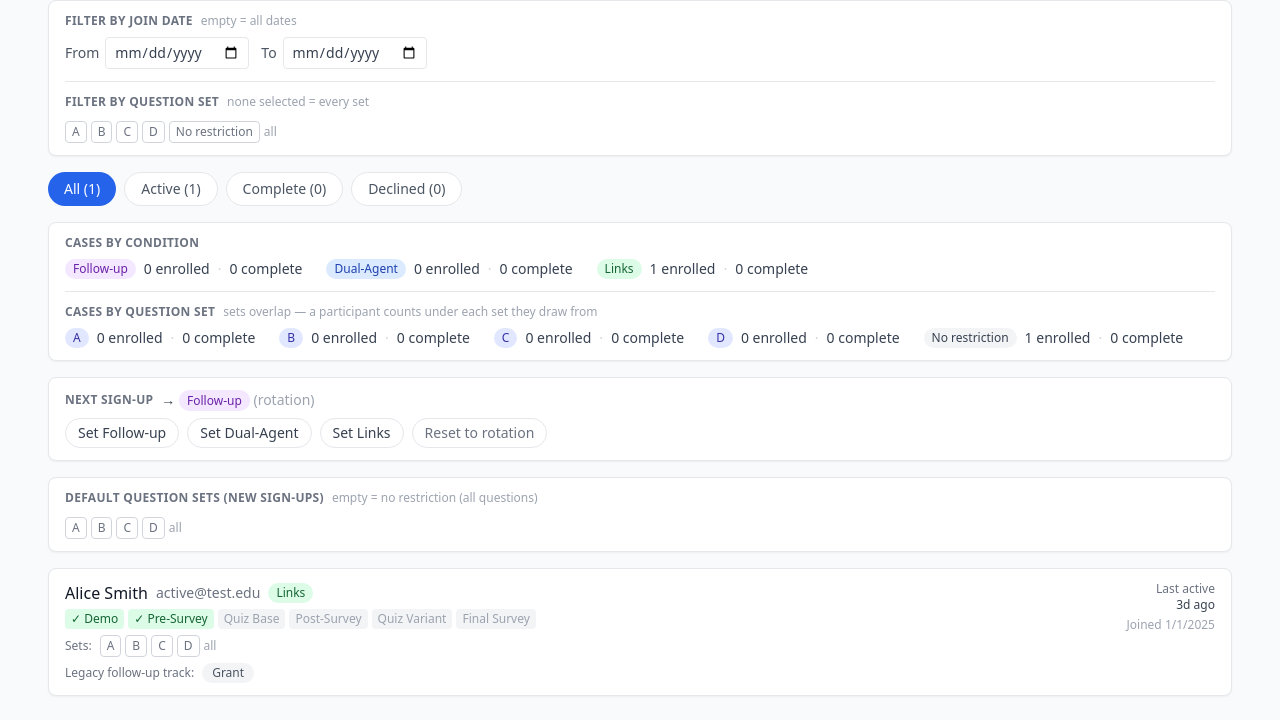
Scenario: ParticipantsPanelPage › next sign-up assignment › pins the next case when a condition button is clicked
(page scrolled)
expect the text "(rotation)" is shown: met, box [253,390,314,409]
Click the button "Set Links": [362, 433] box [320,418,404,448]
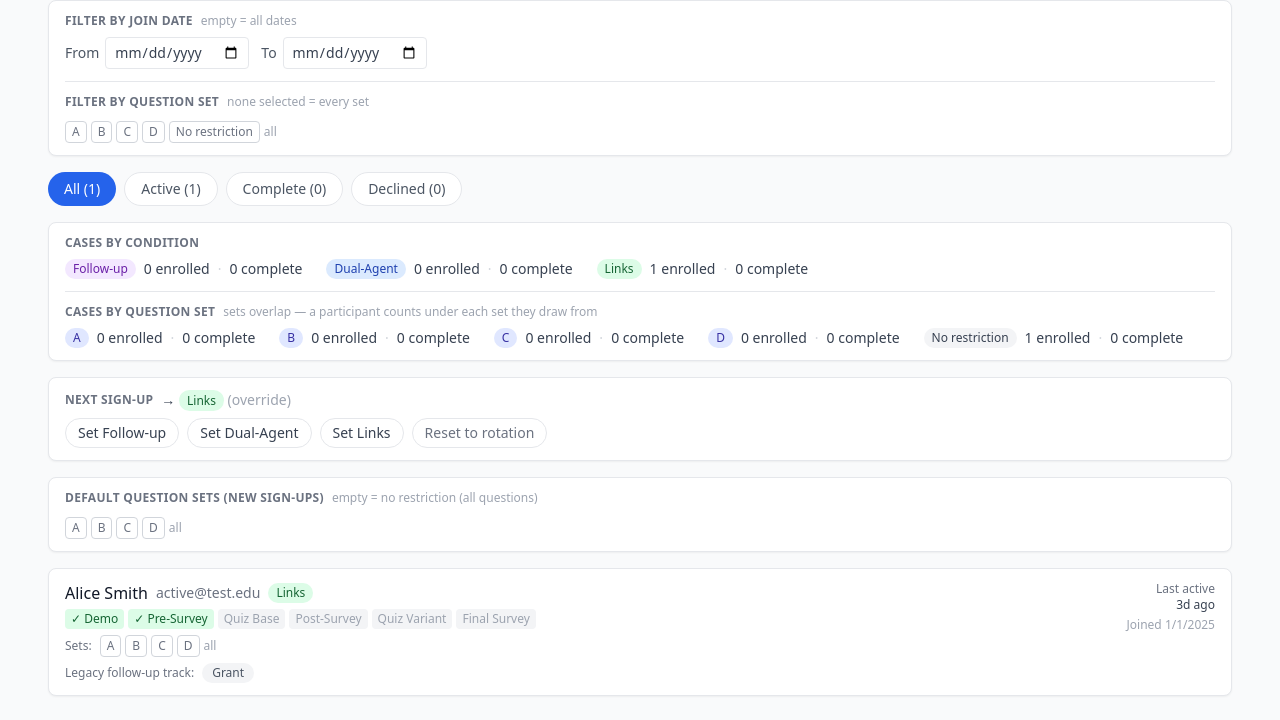
expect the text "(override)" is shown: met, box [228,390,291,409]
expect the text "Links" next to "override" is shown: met, box [187,392,216,409]
